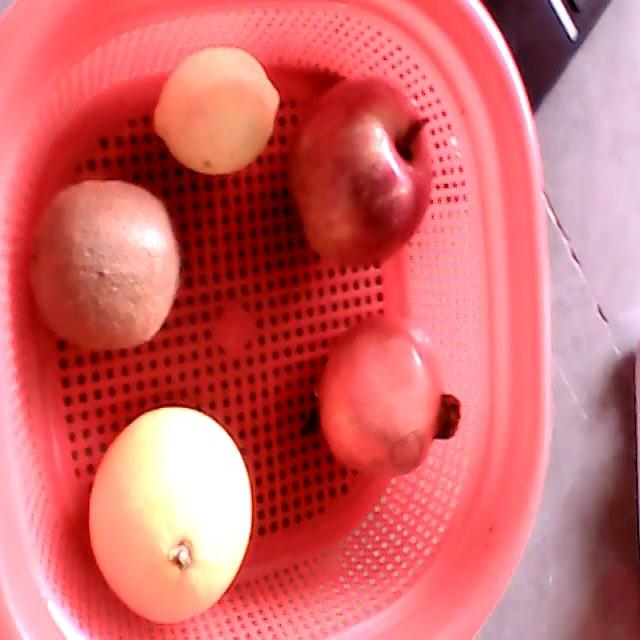apple: (287, 73, 434, 268)
kiwi: (25, 178, 181, 349)
lemon: (153, 47, 281, 175)
orange: (88, 406, 253, 625)
pomegranate: (315, 314, 462, 480)
